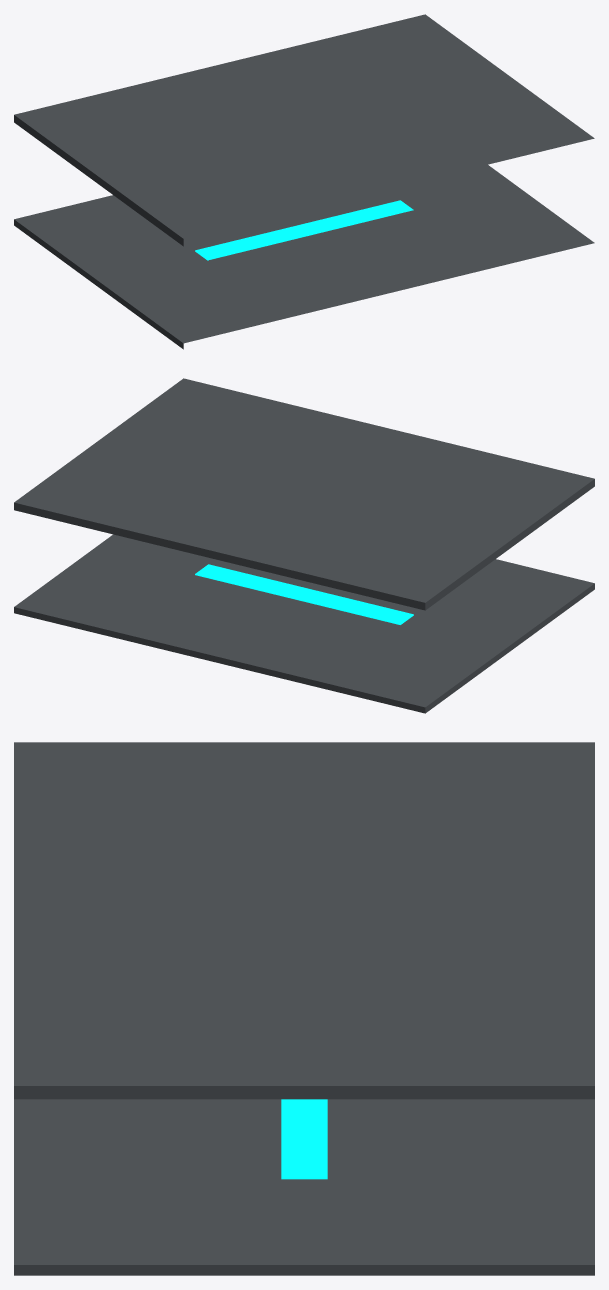
Rendered from sc-market-lod2.glb.
3 views of the same model, one above another, from view 1: azimuth 30°, elevation 25°; view 2: azimuth 150°, elevation 25°; view 3: azimuth 270°, elevation 25° (orthographic). The views are drawn at different scales.
Parts seen in each view (by area): view 1: sc-market-lod2; view 2: sc-market-lod2; view 3: sc-market-lod2.
Part boxes in pixels (bbox=[...]): sc-market-lod2: bbox=[14, 14, 594, 349]; sc-market-lod2: bbox=[14, 378, 594, 713]; sc-market-lod2: bbox=[14, 742, 594, 1275].
Bounding box in the file's own units: 28 × 7.2 × 20.
